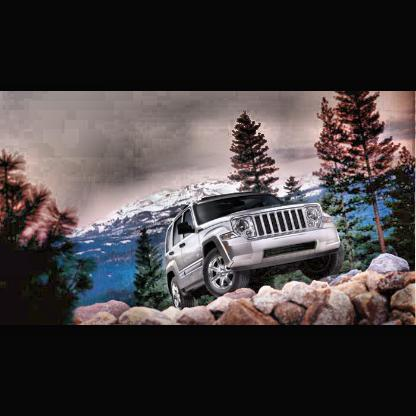Jeep Liberty SUV 2012: (166, 193, 344, 310)
